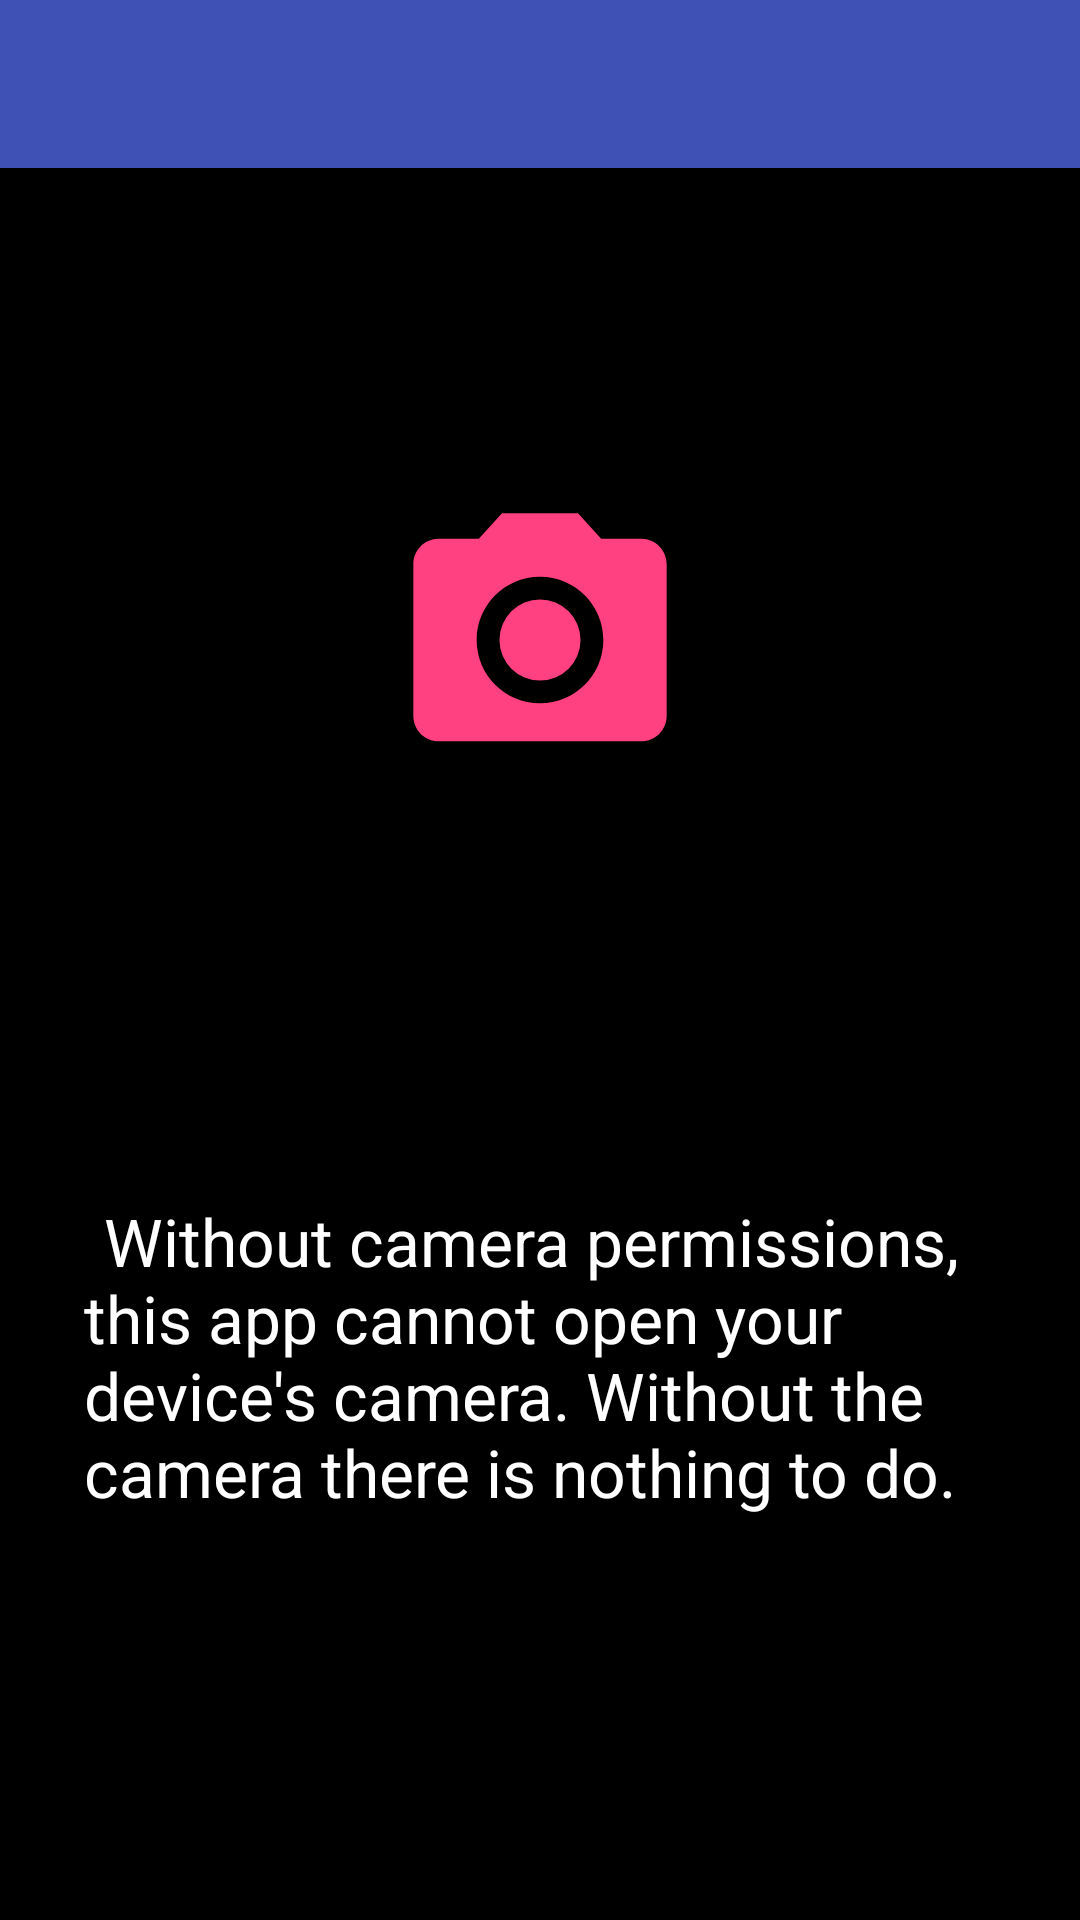

Point at icon controls on the screen. Image size 1080px x 1920px, points as [x,y].
photo camera: [540,627]
